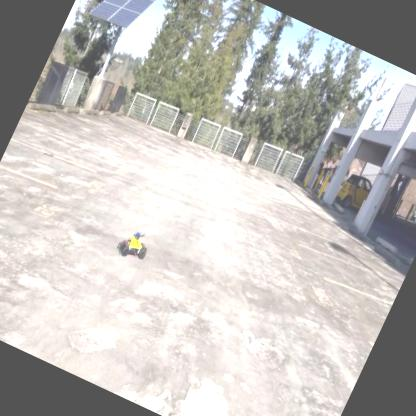mushr_car: (111, 221, 157, 268)
